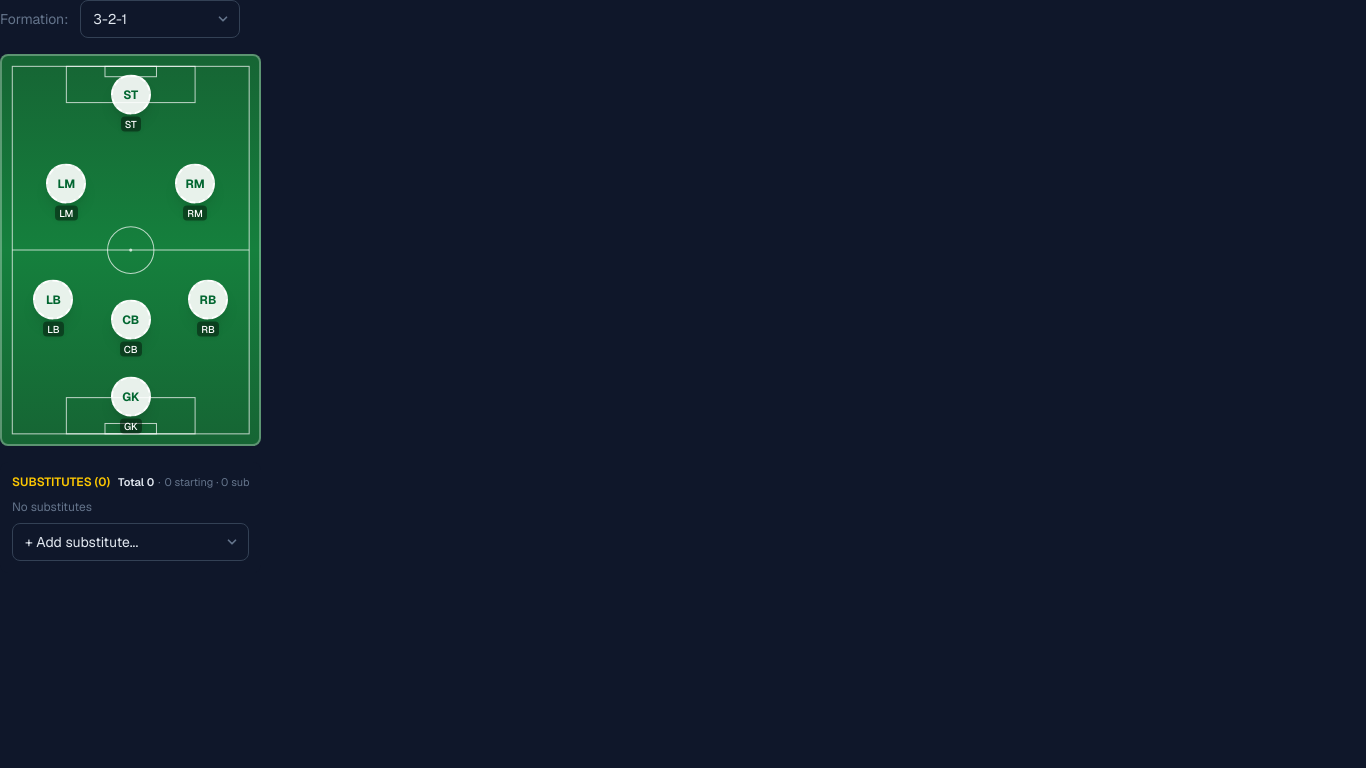
Test: TacticsPanel › groups bench players in modal by primary position (GK/Defenders/Midfielders/Forwards)
The width and height of the screenshot is (1366, 768).
Step 1. Click the button with aria-label "assign player to GK" → x=131, y=405, box [111,377,151,434]
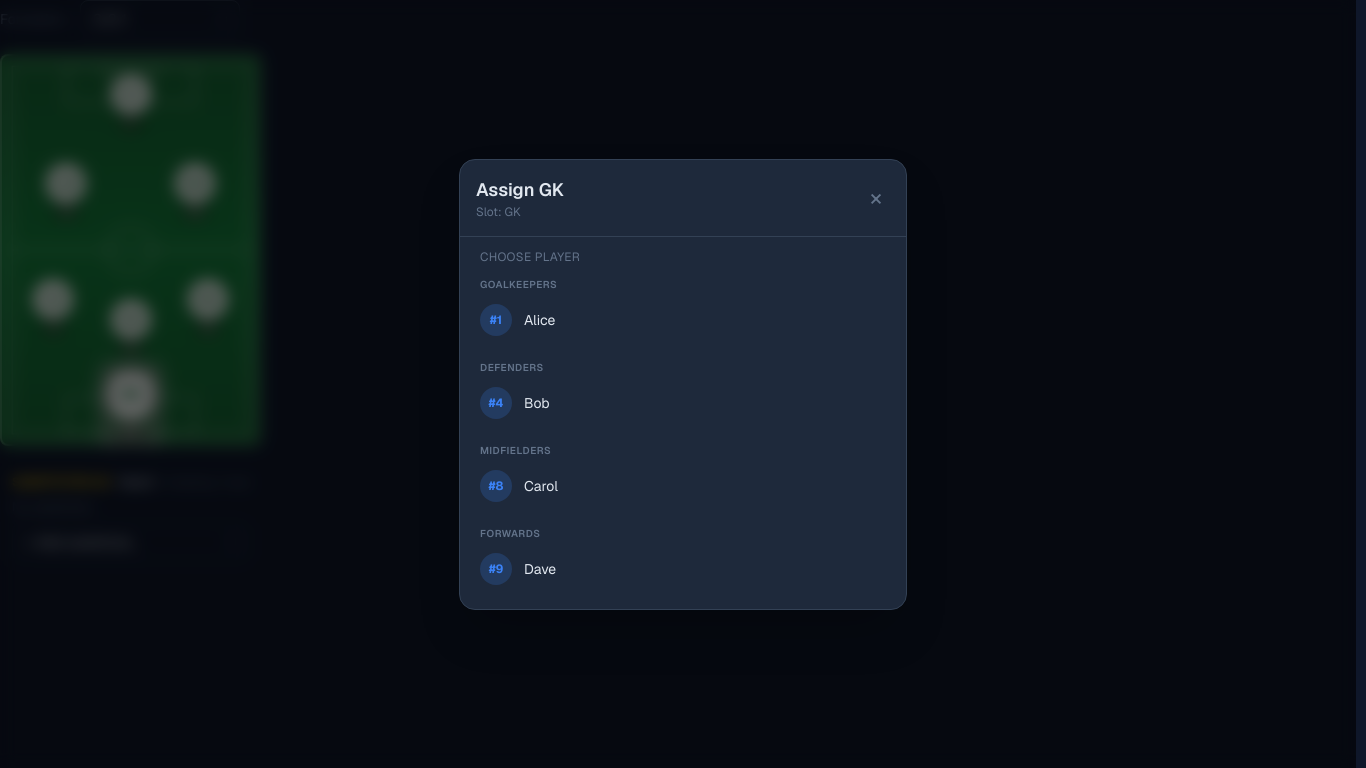
Now the heading "goalkeepers?" is shown, box [480,278,557,290]
Now the heading "Defenders" is shown, box [480,360,544,374]
Now the heading "Midfielders" is shown, box [480,444,551,456]
